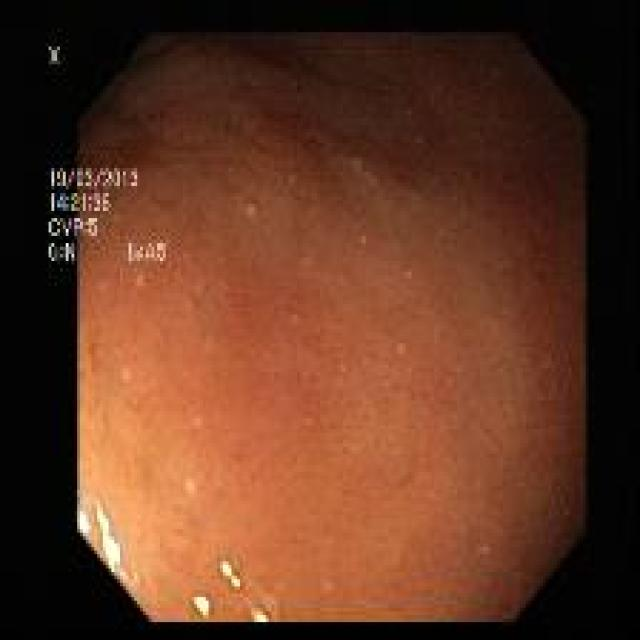ulcerative-colitis: (51, 34, 585, 622)
